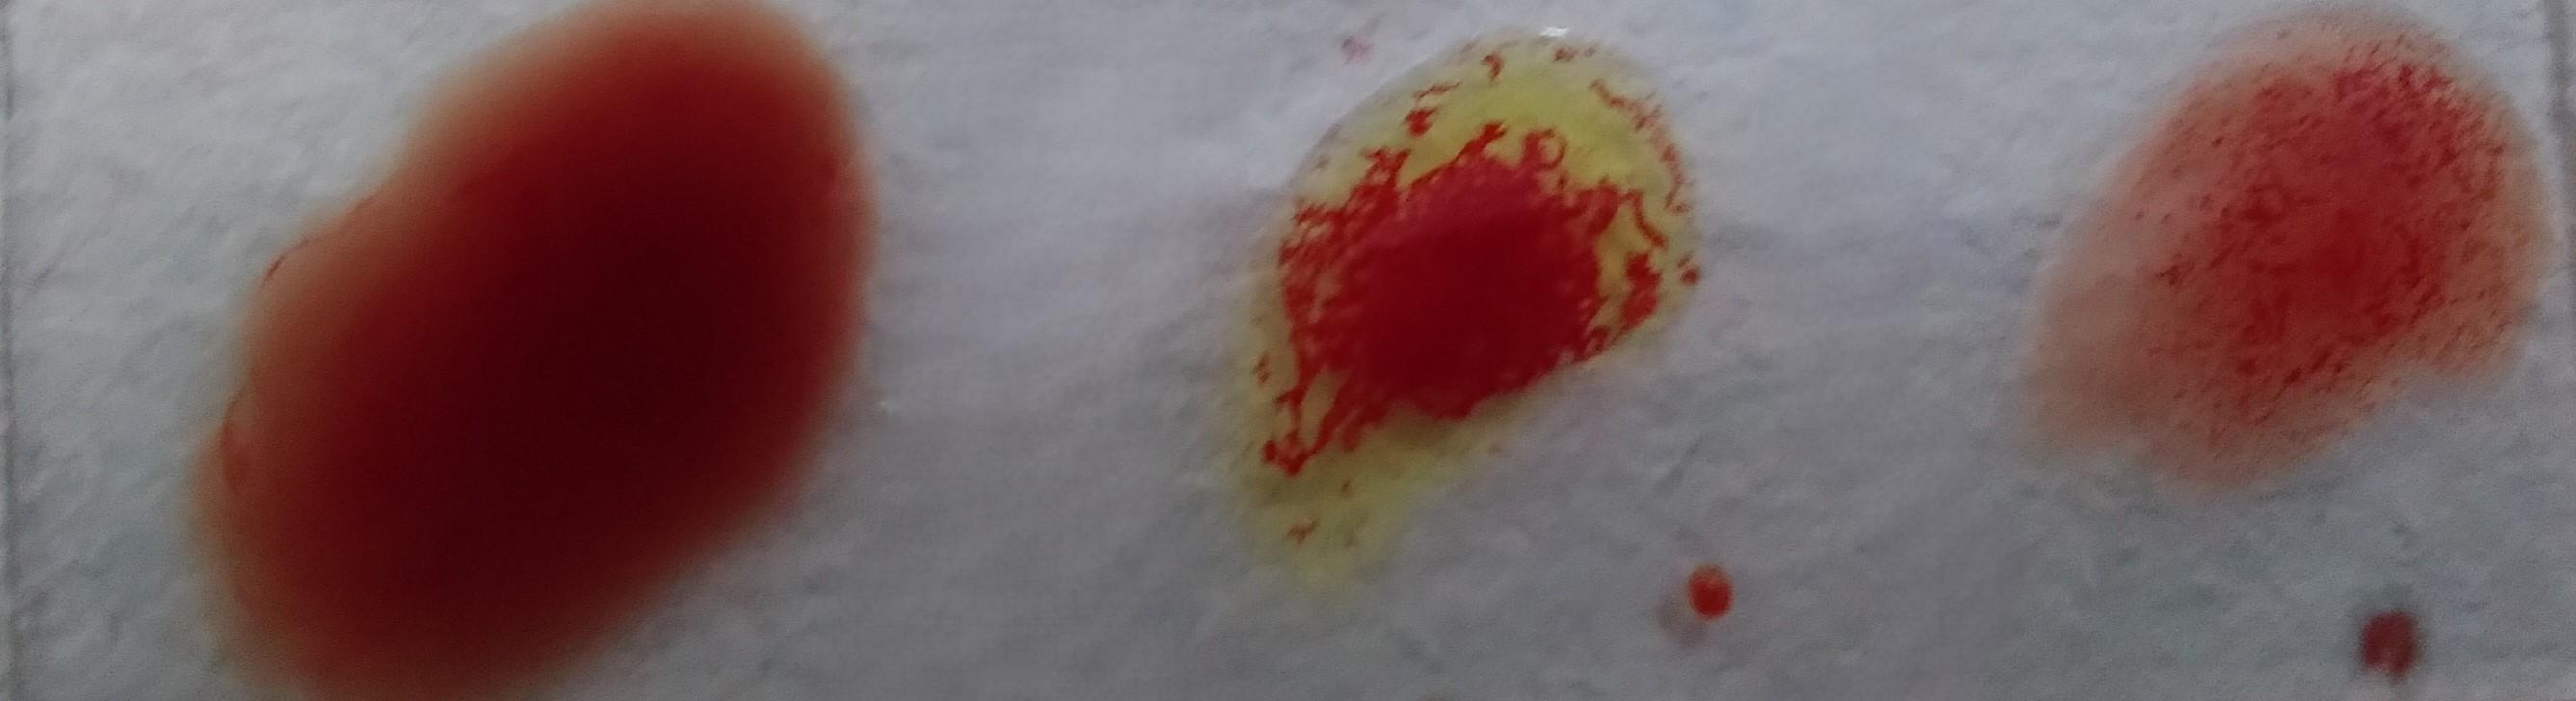B: (1275, 51, 1664, 538)
D: (2065, 15, 2515, 463)
